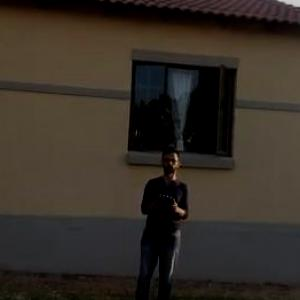follow: (128, 141, 194, 299)
